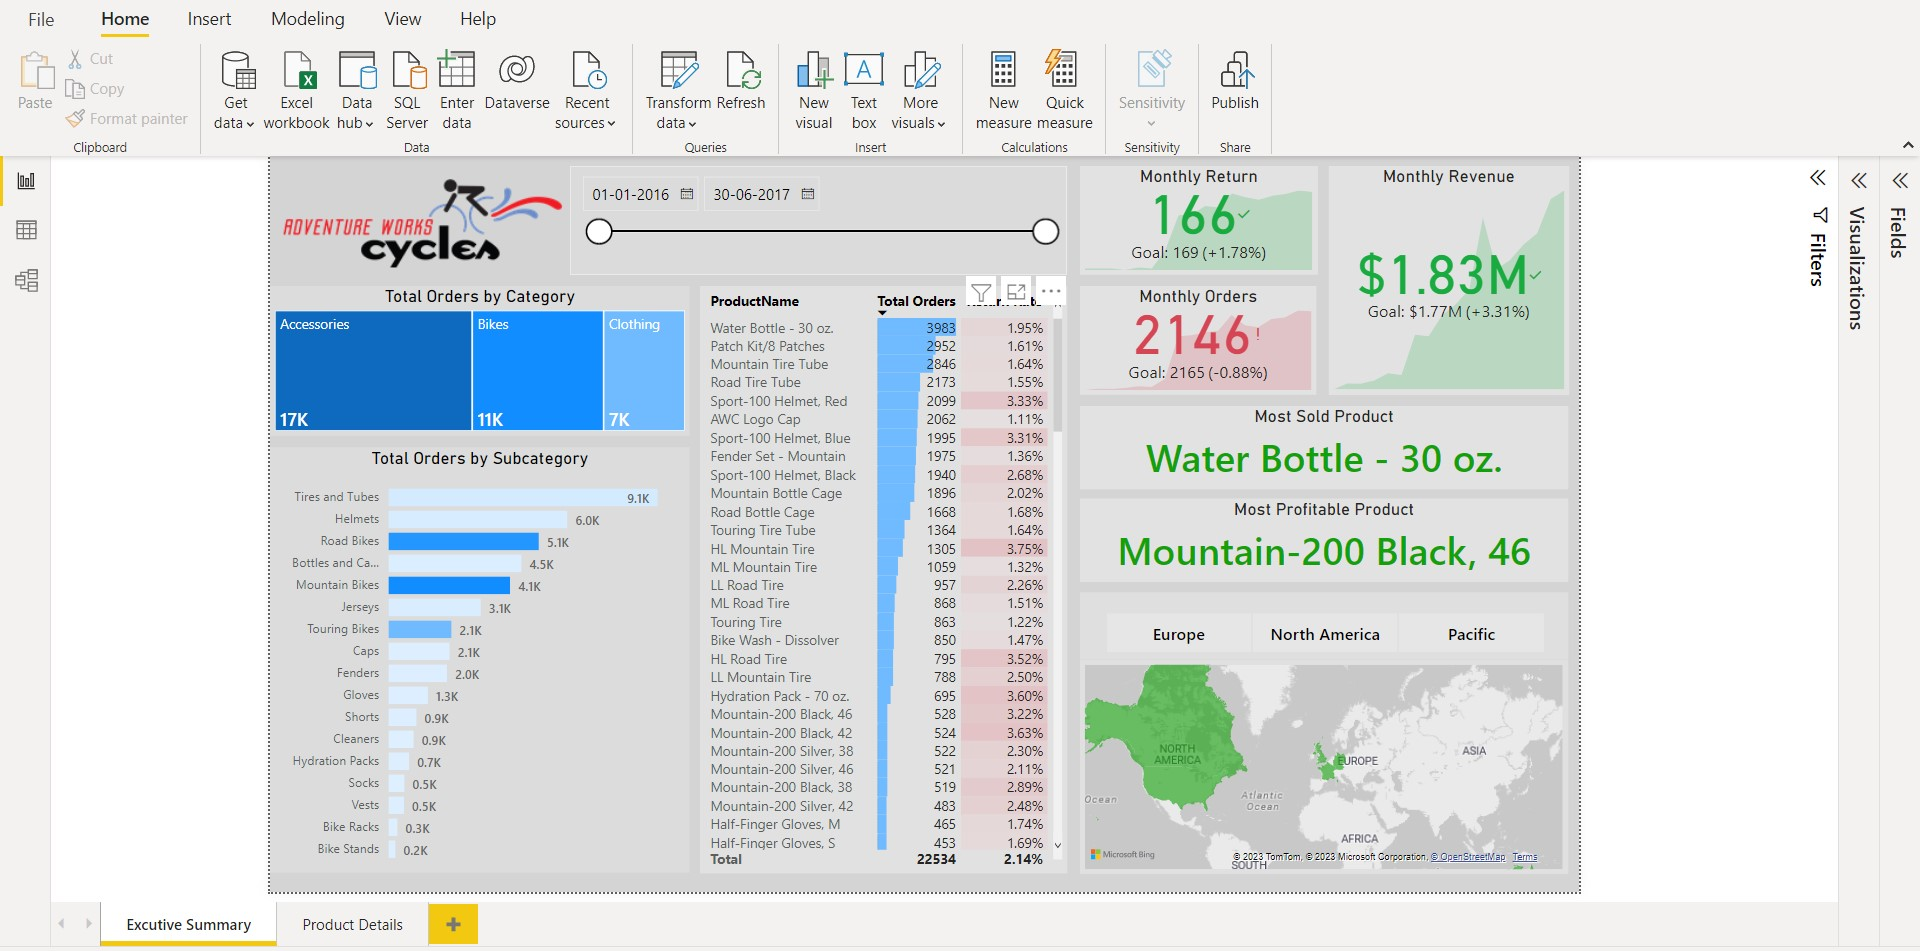

Layout of this report page (visuals, bound fields, positions):
{"tool":"powerbi","page":{"name":"Excutive Summary","canvas":[1280,720],"ordinal":0},"visuals":[{"type":"image","box":[8.8,10,285,112.5],"z":0},{"type":"barChart","title":"Total Orders by Subcategory","fields":{"Y":["AW_Sales.Total Orders"],"Category":["AW_Product_Subcategories_Lookup.SubcategoryName"]},"box":[0,284.8,410.7,415.6],"z":1000},{"type":"treemap","title":"Total Orders by Category","fields":{"Group":["AW_Product_Categories_Lookup.CategoryName","AW_Product_Subcategories_Lookup.SubcategoryName"],"Values":["AW_Sales.Total Orders"]},"box":[0,127.1,410.7,146.7],"z":2000},{"type":"pivotTable","fields":{"Values":["AW_Sales.Total Orders","AW_Returns.Return Rate"],"Rows":["AW_Product_Categories_Lookup.CategoryName","AW_Product_Subcategories_Lookup.SubcategoryName","AW_PRODUCT_LOOKUP.ProductName"]},"box":[420.1,127.3,359.5,574.5],"z":3000},{"type":"slicer","fields":{"Values":["AS_Calendar_LOOKUP.Date"]},"box":[293.8,10,486.2,106.2],"z":4000},{"type":"kpi","title":"Monthly Revenue","fields":{"Indicator":["AW_Sales.Total Revenue"],"TrendLine":["AS_Calendar_LOOKUP.Start of Month"],"Goal":["AW_Sales.Previous month"]},"box":[1035,10,235,223.8],"z":5000},{"type":"kpi","title":"Monthly Orders","fields":{"Indicator":["AW_Sales.Total Orders"],"TrendLine":["AS_Calendar_LOOKUP.Start of Month"],"Goal":["AW_Sales.Prev Month Order"]},"box":[792.5,127.5,231.2,106.2],"z":6000},{"type":"kpi","title":"Monthly Return","fields":{"TrendLine":["AS_Calendar_LOOKUP.Start of Month"],"Indicator":["AW_Returns.Total Return"],"Goal":["AW_Returns.Previous month Returns"]},"box":[792.5,10,232.5,106.2],"z":7000},{"type":"card","title":"Most Sold Product","fields":{"Values":["Min(AW_PRODUCT_LOOKUP.ProductName)"]},"box":[792.5,245,477.5,81.2],"z":8000},{"type":"card","title":"Most Profitable Product","fields":{"Values":["Min(AW_PRODUCT_LOOKUP.ProductName)"]},"box":[792.5,335,477.5,81.2],"z":9000},{"type":"filledMap","fields":{"Category":["AW_Territories_Lookup.Country"]},"box":[792.6,492.4,477.5,209.6],"z":10000},{"type":"slicer","fields":{"Values":["AW_Territories_Lookup.Continent"]},"box":[792.6,426.7,477.5,65.7],"z":11000}]}

Visuals, with their boxes on the page's 1280x720 design canvas (x1, y1, x2, y2). These are canvas units, not pixel positions in the 1920x951 screenshot, which may show the page scaled, cropped or inside an application window:
image: (x1=9, y1=10, x2=294, y2=122)
"Total Orders by Subcategory" barChart: (x1=0, y1=285, x2=411, y2=700)
"Total Orders by Category" treemap: (x1=0, y1=127, x2=411, y2=274)
pivotTable - AW_Sales.Total Orders x AW_Returns.Return Rate: (x1=420, y1=127, x2=780, y2=702)
slicer - AS_Calendar_LOOKUP.Date: (x1=294, y1=10, x2=780, y2=116)
"Monthly Revenue" kpi: (x1=1035, y1=10, x2=1270, y2=234)
"Monthly Orders" kpi: (x1=792, y1=128, x2=1024, y2=234)
"Monthly Return" kpi: (x1=792, y1=10, x2=1025, y2=116)
"Most Sold Product" card: (x1=792, y1=245, x2=1270, y2=326)
"Most Profitable Product" card: (x1=792, y1=335, x2=1270, y2=416)
filledMap - AW_Territories_Lookup.Country: (x1=793, y1=492, x2=1270, y2=702)
slicer - AW_Territories_Lookup.Continent: (x1=793, y1=427, x2=1270, y2=492)
